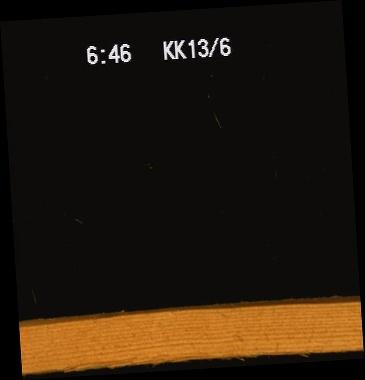wave: (21, 348, 310, 367)
